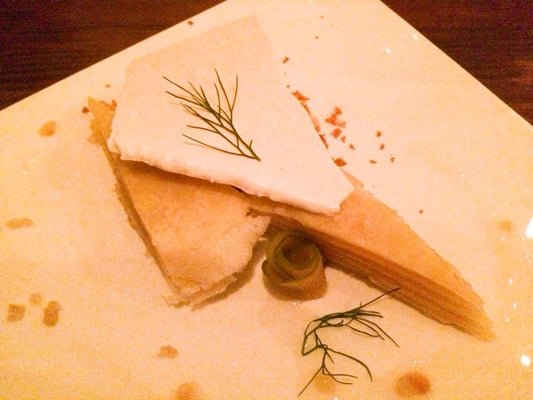curry: (0, 2, 515, 400)
